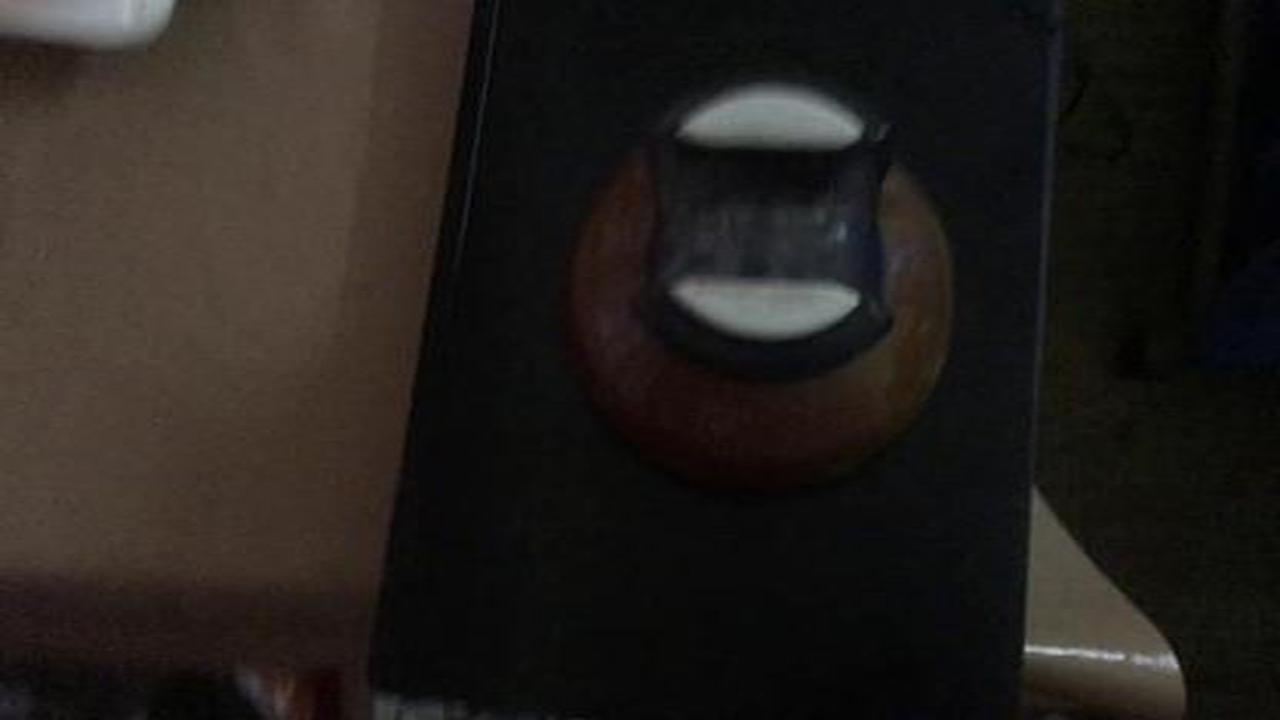insulator_pin: (548, 58, 982, 504)
